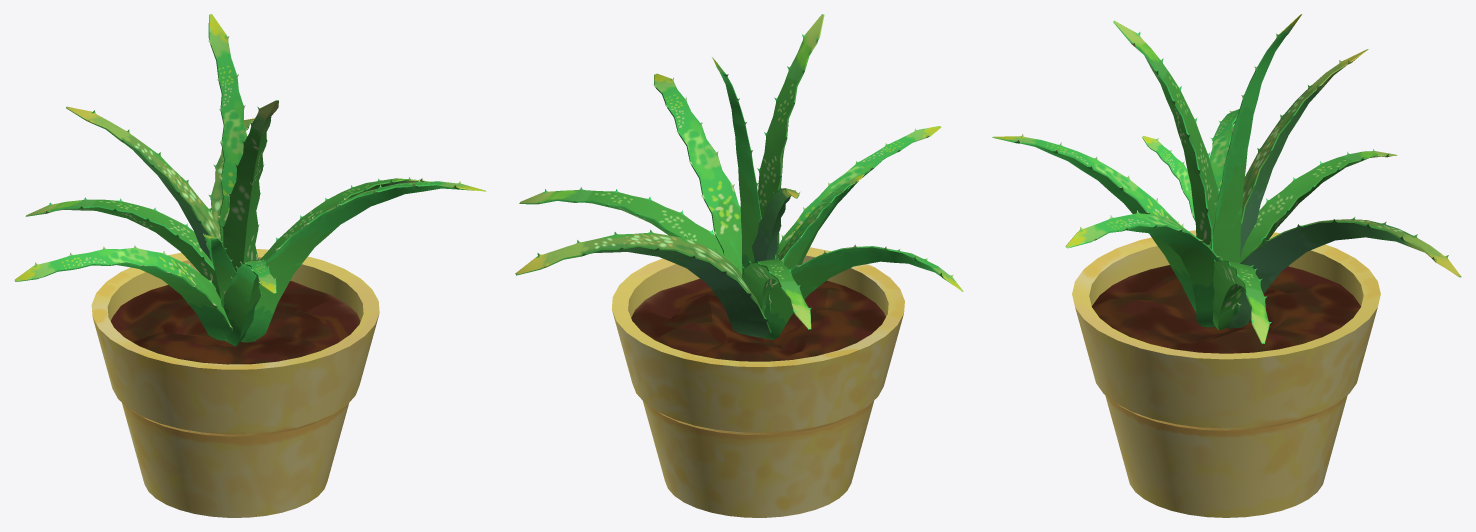
The model's file is aloevera_neutral_end.glb.
3 renders of one model, left to right at view 1: azimuth 30°, elevation 25°; view 2: azimuth 150°, elevation 25°; view 3: azimuth 270°, elevation 25°, orthographic. The views are drawn at different scales.
Parts seen in each view (by area): view 1: Pot, Plant; view 2: Pot, Plant; view 3: Pot, Plant.
Boxes of the visible parts, <box> form: Pot: <box>91,249,379,517</box>; Plant: <box>14,14,485,346</box>; Pot: <box>612,247,904,517</box>; Plant: <box>515,14,963,339</box>; Pot: <box>1072,230,1380,517</box>; Plant: <box>992,14,1461,343</box>.
Size of the model in its own units: 3.51 by 3.42 by 3.11.
4 materials, 4 textured.
